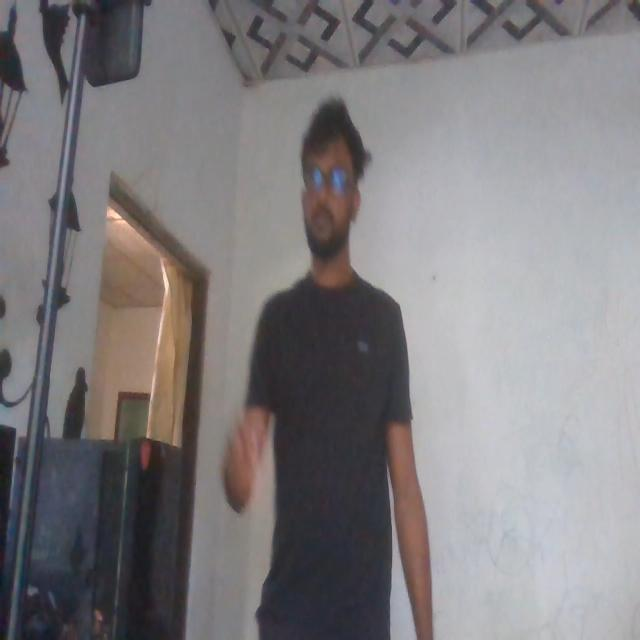Person: (250, 106, 427, 640)
